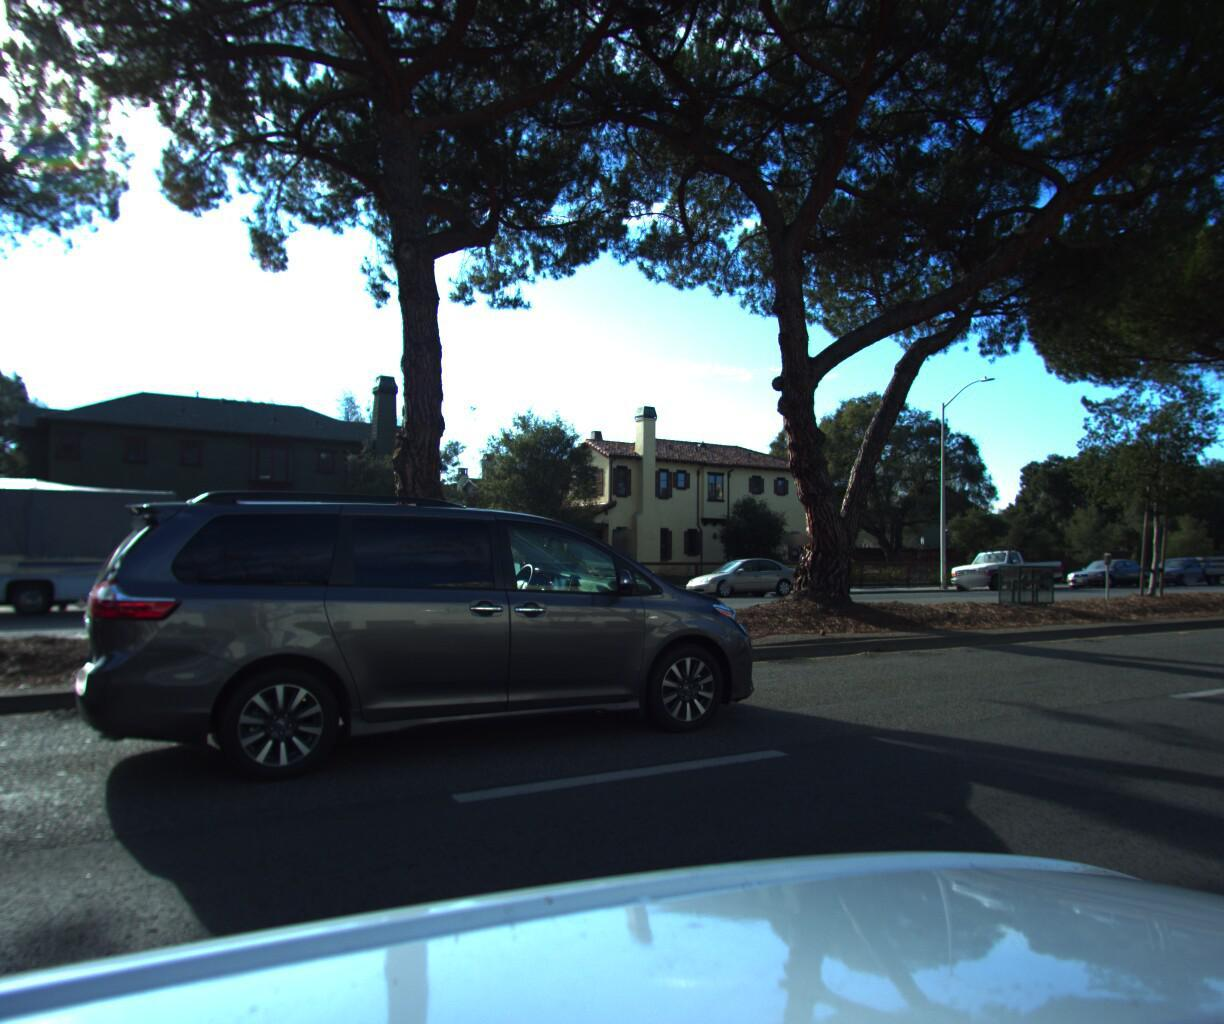car: (93, 472, 790, 808), (939, 539, 1065, 594), (676, 552, 806, 601), (1053, 553, 1153, 586), (1133, 550, 1222, 585)
other_vehicle: (0, 458, 197, 638), (1215, 518, 1224, 584)
